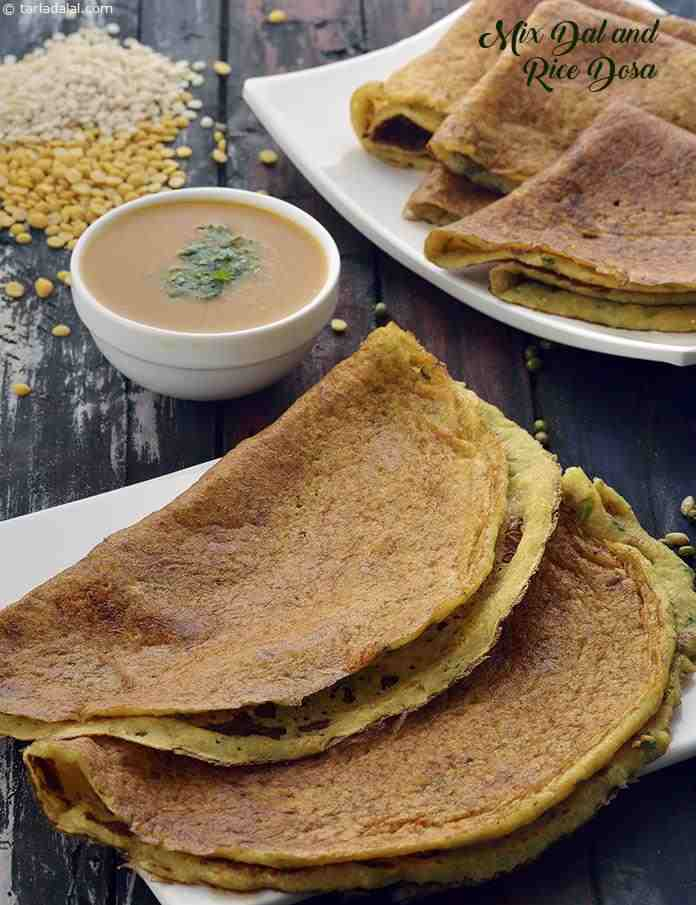dosa: (4, 323, 696, 890)
